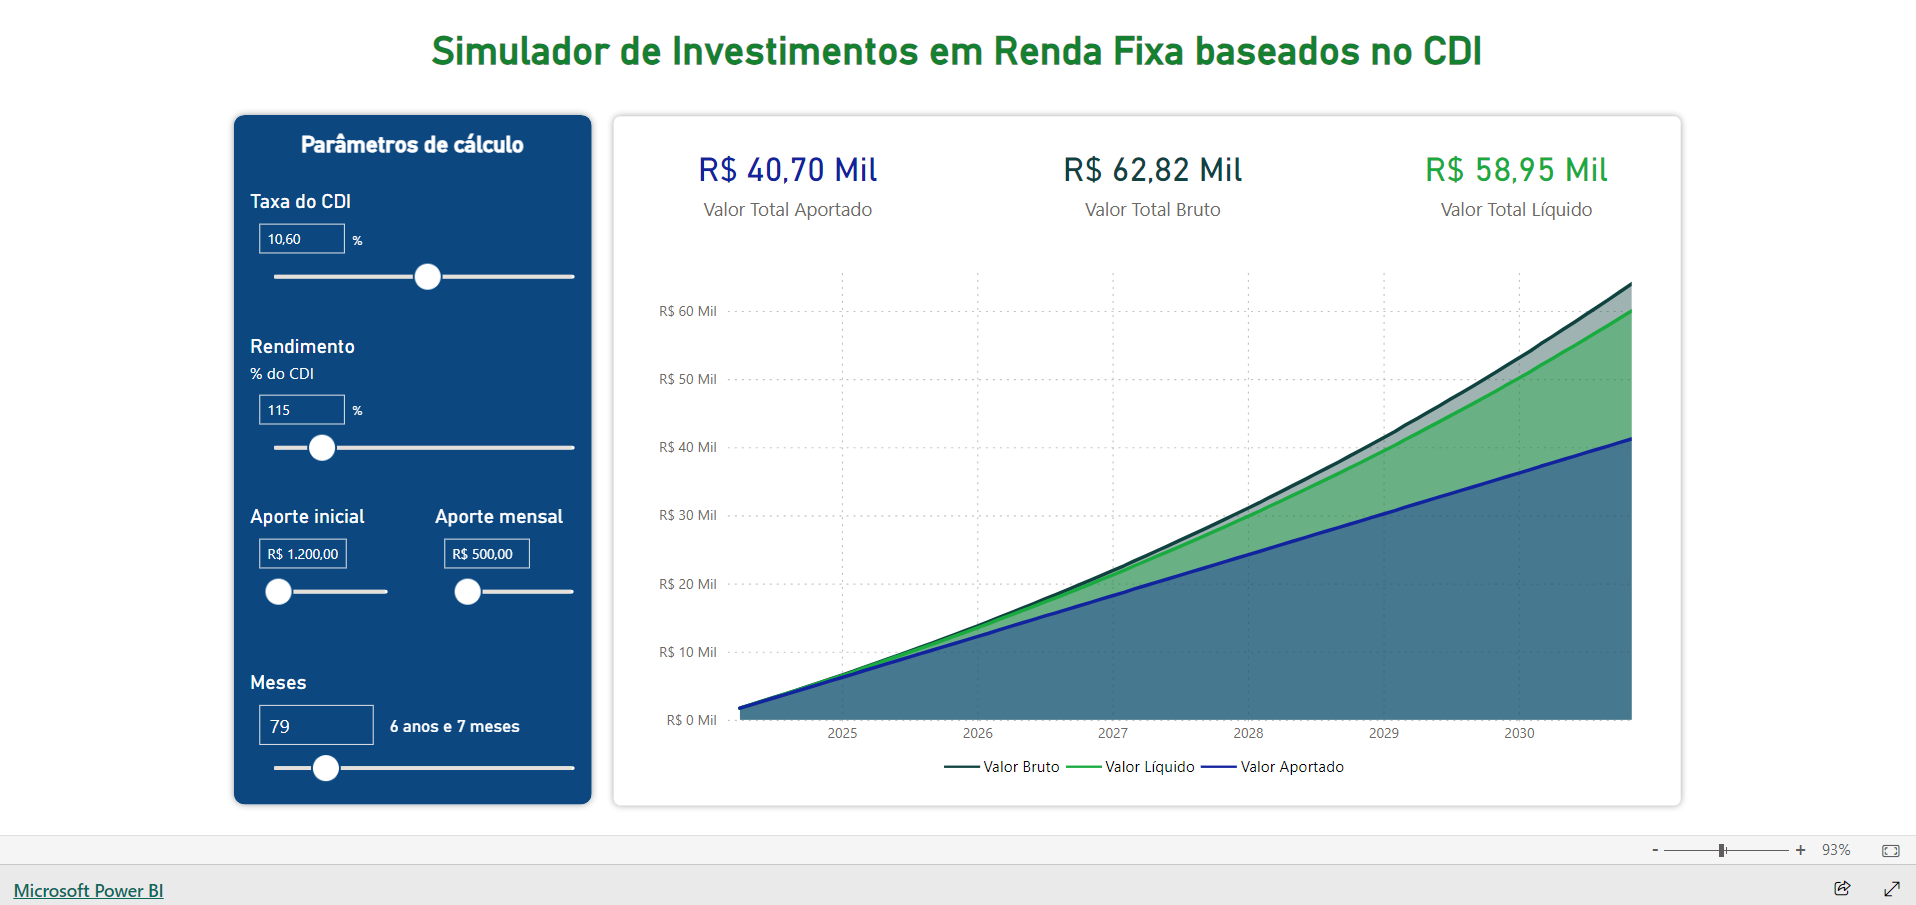

Layout of this report page (visuals, bound fields, positions):
{"tool":"powerbi","page":{"name":"Calculadora","canvas":[1280,720],"ordinal":0},"visuals":[{"type":"textbox","box":[0,20,1280,60.3],"z":0},{"type":"shape","box":[11.7,95,320,605.1],"z":1000},{"type":"slicer","title":"Meses","fields":{"Values":["Meses.Meses"]},"box":[11.7,578.8,320,110.9],"z":2000},{"type":"shape","box":[338.5,95.2,929.8,605],"z":3000},{"type":"slicer","title":"Taxa do CDI","fields":{"Values":["CDI.CDI"]},"box":[11.7,164.4,320,100.2],"z":4000},{"type":"slicer","title":"Rendimento","fields":{"Values":["Rendimento.Rendimento"]},"box":[11.7,288.9,320,119.6],"z":5000},{"type":"areaChart","fields":{"Category":["MesesBase.Date"],"Y":["Medidas.ValorInvestido","Medidas.Medida","Medidas.ValorLiquido"]},"box":[378.4,220,850.1,460],"z":6000},{"type":"card","fields":{"Values":["Medidas.ValorAportadoFinal"]},"box":[383.2,98.9,223.7,115.7],"z":7000},{"type":"card","fields":{"Values":["Medidas.ValorBrutoFinal"]},"box":[696.4,98.9,223.7,115.7],"z":8000},{"type":"textbox","box":[11.6,110,319.7,40],"z":9000},{"type":"card","fields":{"Values":["Medidas.ValorLiquidoFinal"]},"box":[1009.6,98.9,223.7,115.7],"z":10000},{"type":"multiRowCard","fields":{"Values":["Medidas.AnosTexto"]},"box":[142,607.9,170.2,35],"z":11000},{"type":"slicer","title":"Aporte inicial","fields":{"Values":["Aporte inicial.Aporte inicial"]},"box":[11.7,435.8,159.5,119.6],"z":12000},{"type":"slicer","title":"Aporte mensal","fields":{"Values":["Aporte mensal.Aporte mensal"]},"box":[171.2,435.8,160.5,119.6],"z":13000},{"type":"textbox","box":[114.6,193.4,30.4,30.4],"z":14000},{"type":"textbox","box":[114.6,340.3,30.4,30.4],"z":15000}]}

Visuals, with their boxes on the page's 1280x720 design canvas (x1, y1, x2, y2). These are canvas units, not pixel positions in the 1916x905 screenshot, which may show the page scaled, cropped or inside an application window:
textbox: {"left": 0, "top": 20, "right": 1280, "bottom": 80}
shape: {"left": 12, "top": 95, "right": 332, "bottom": 700}
"Meses" slicer: {"left": 12, "top": 579, "right": 332, "bottom": 690}
shape: {"left": 338, "top": 95, "right": 1268, "bottom": 700}
"Taxa do CDI" slicer: {"left": 12, "top": 164, "right": 332, "bottom": 265}
"Rendimento" slicer: {"left": 12, "top": 289, "right": 332, "bottom": 408}
areaChart - MesesBase.Date x Medidas.ValorInvestido: {"left": 378, "top": 220, "right": 1228, "bottom": 680}
card - Medidas.ValorAportadoFinal: {"left": 383, "top": 99, "right": 607, "bottom": 215}
card - Medidas.ValorBrutoFinal: {"left": 696, "top": 99, "right": 920, "bottom": 215}
textbox: {"left": 12, "top": 110, "right": 331, "bottom": 150}
card - Medidas.ValorLiquidoFinal: {"left": 1010, "top": 99, "right": 1233, "bottom": 215}
multiRowCard - Medidas.AnosTexto: {"left": 142, "top": 608, "right": 312, "bottom": 643}
"Aporte inicial" slicer: {"left": 12, "top": 436, "right": 171, "bottom": 555}
"Aporte mensal" slicer: {"left": 171, "top": 436, "right": 332, "bottom": 555}
textbox: {"left": 115, "top": 193, "right": 145, "bottom": 224}
textbox: {"left": 115, "top": 340, "right": 145, "bottom": 371}
